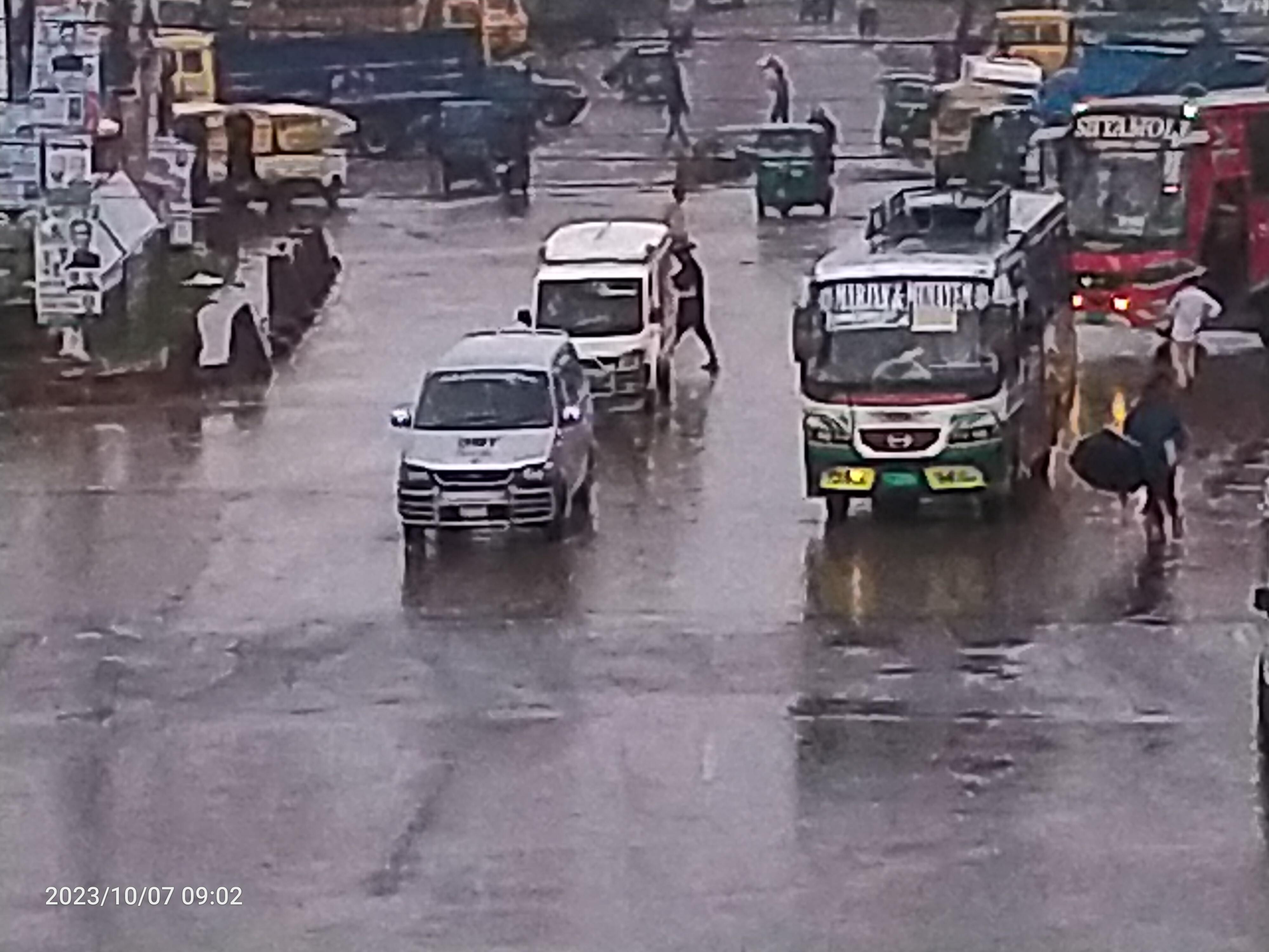Bus: (766, 181, 1106, 541), (1006, 80, 1269, 340)
Car: (351, 315, 624, 601), (526, 201, 718, 433), (166, 96, 390, 198)
Truck: (136, 4, 502, 133), (985, 0, 1269, 77)
